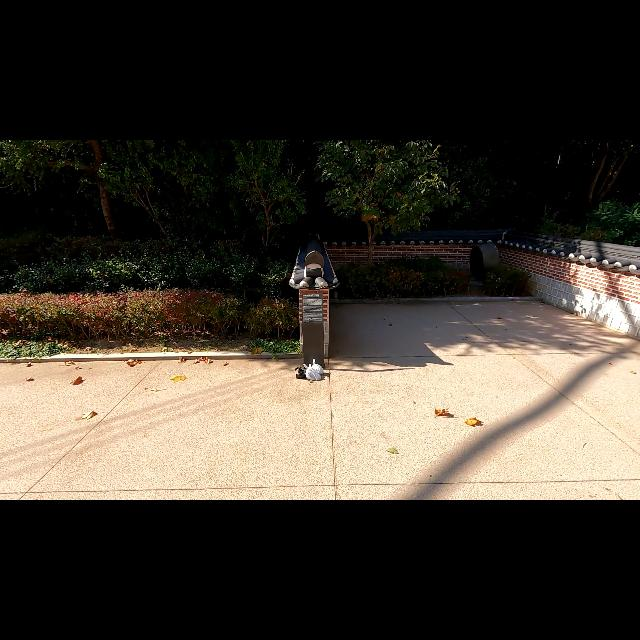trash: (304, 365, 322, 381), (310, 359, 324, 375), (293, 367, 307, 379)
